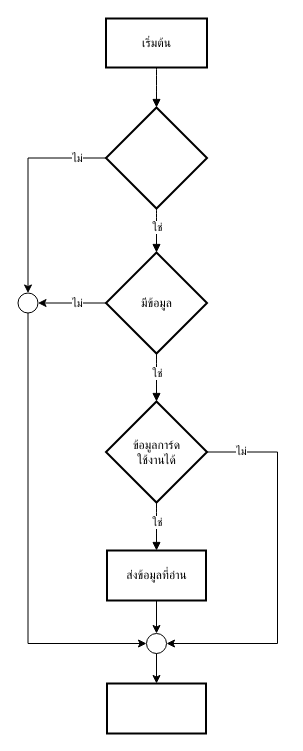
Some shapes in this 303 by 751 pixel diagram are drawn without their labels. Here are the shapes that lost their labels. From the top down, the centre of each, then its label:
At point 156,157: "รองรับ NDEF".
At point 156,708: "สิ้นสุด".
